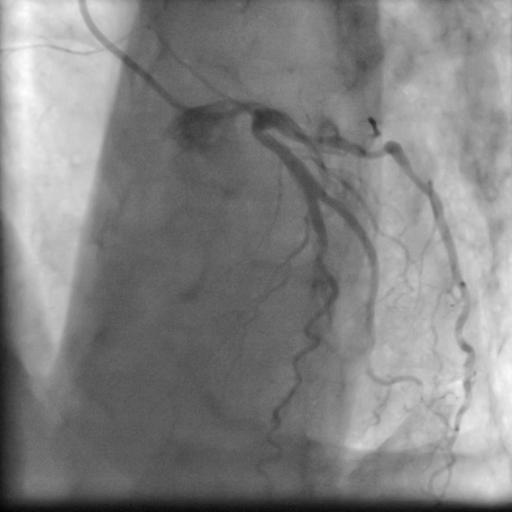Stenosis: (360, 136, 394, 166)
